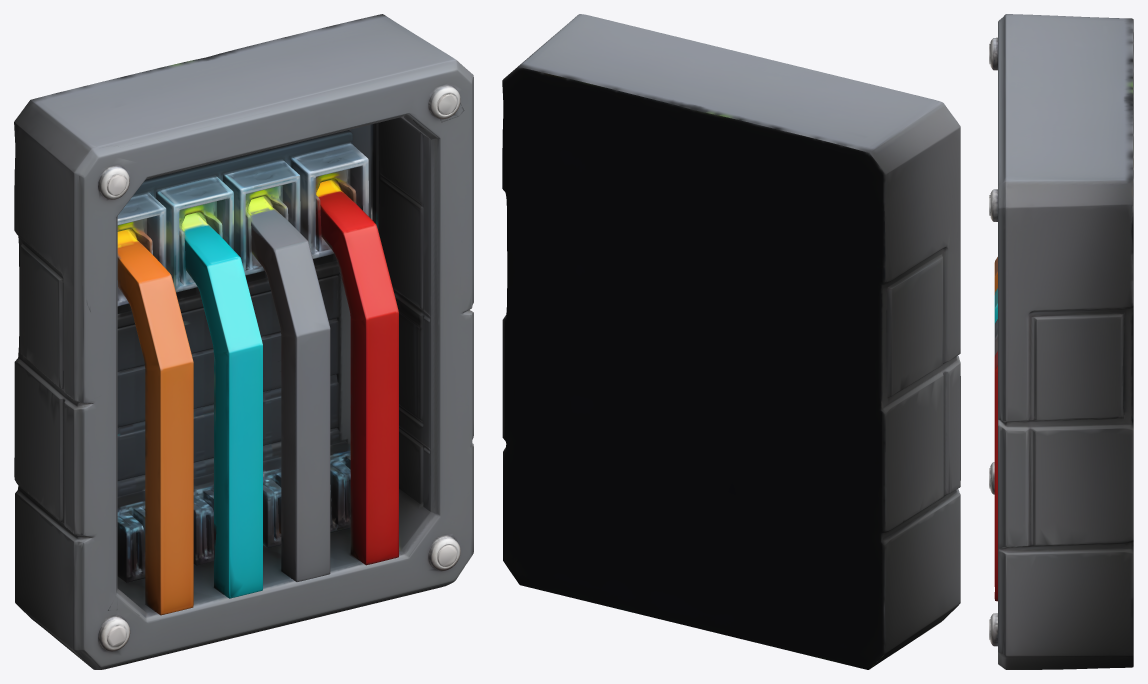
The model's file is OH_WirePanel.fbx.
3 views of the same model, side by side, from view 1: azimuth 30°, elevation 25°; view 2: azimuth 150°, elevation 25°; view 3: azimuth 270°, elevation 25° (orthographic). The views are drawn at different scales.
Visible parts, largest first — view 1: node_0; view 2: node_0; view 3: node_0.
Boxes of the visible parts, x1,y1,x2,y2 form: node_0: (14, 14, 473, 669); node_0: (502, 14, 960, 669); node_0: (989, 14, 1133, 669).
Size of the model in its own units: 76.56 by 95.98 by 25.5.
1 material, 1 textured.
